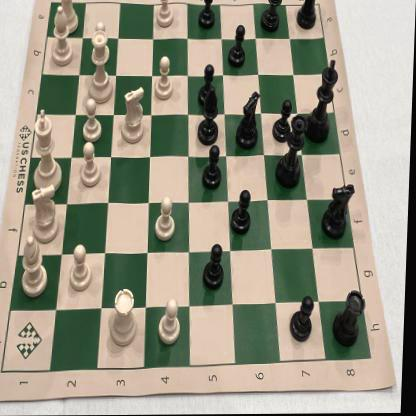black-bishop: (194, 86, 223, 150), (260, 0, 284, 34)
black-king: (306, 58, 341, 146)
black-knight: (324, 184, 358, 241), (236, 90, 262, 152)
black-pawn: (202, 240, 228, 292), (291, 293, 317, 343), (232, 188, 254, 238), (198, 64, 220, 112), (203, 144, 224, 191), (273, 99, 293, 146), (228, 24, 248, 70), (198, 0, 218, 31)
black-queen: (278, 114, 310, 189)
black-rook: (333, 288, 369, 350), (295, 0, 321, 33)
white-bishop: (20, 236, 52, 298), (50, 6, 76, 67)
white-king: (32, 108, 67, 195)
white-knight: (28, 183, 64, 242), (120, 85, 148, 146)
white-pawn: (158, 297, 184, 348), (70, 244, 95, 294), (154, 194, 178, 244), (78, 142, 104, 188), (82, 99, 106, 144), (154, 54, 176, 100), (92, 21, 113, 63), (154, 0, 176, 31)
white-queen: (84, 31, 118, 105)
white-rook: (110, 286, 142, 349), (57, 0, 80, 38)
